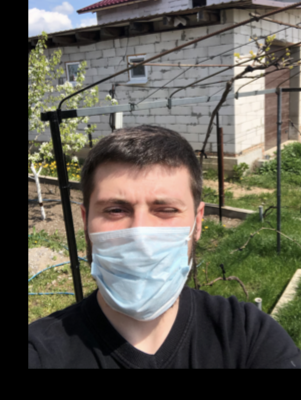with_mask: (85, 179, 196, 321)
